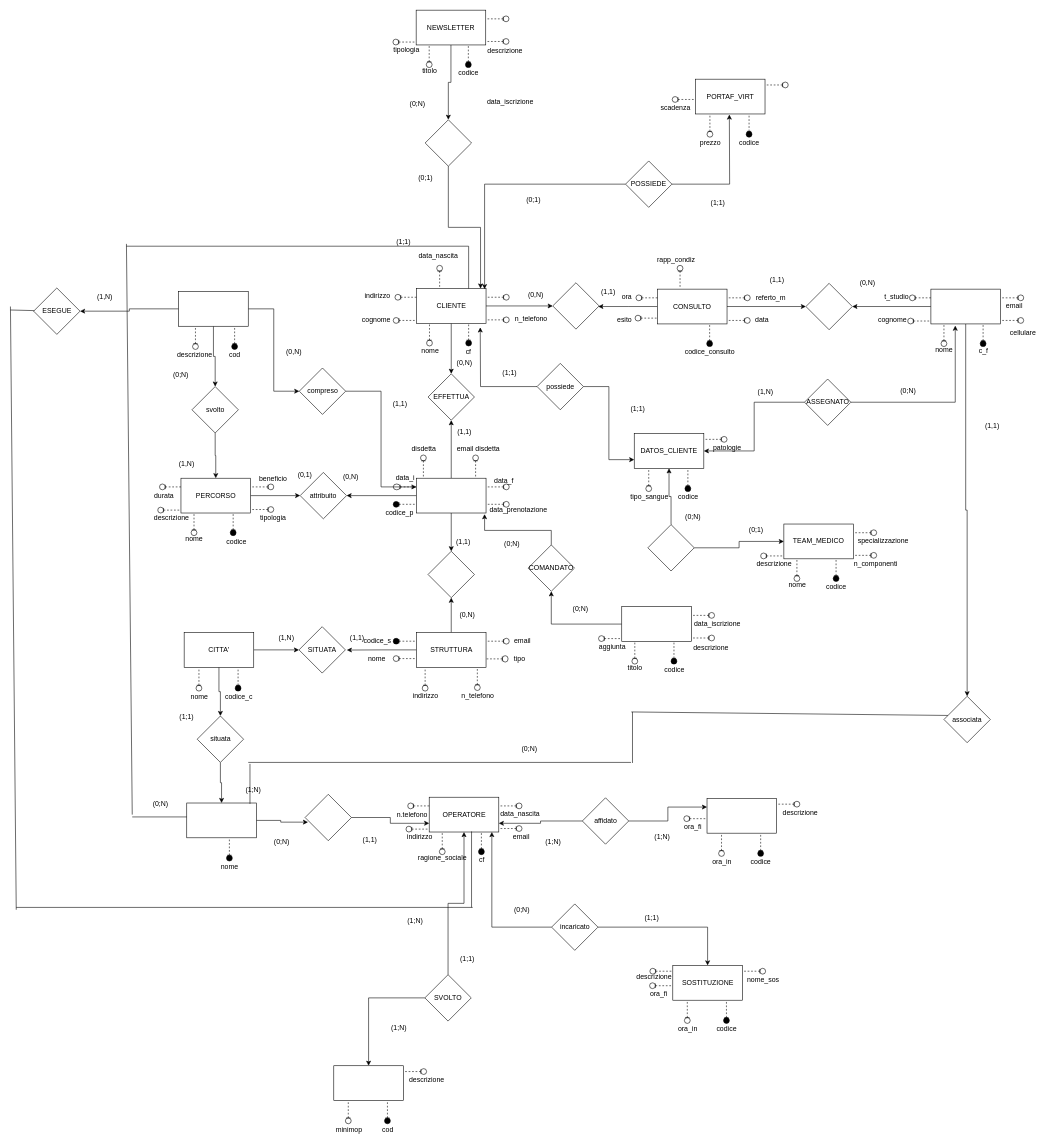
Some shapes in this 1050 by 1146 pixel diagram are drawn without their labels. The shapes that lost their labels are listed below. From the top down, each one's centre as x and y in pixels, then its label:
At point 448,142: "ISCRITTO".
At point 213,308: "TRATTAMENTO".
At point 575,305: "RICHIEDE".
At point 828,306: "COMPIE".
At point 965,306: "MEDICO".
At point 451,495: "PRENOTAZIONE".
At point 670,547: "GESTITO".
At point 450,574: "RIFERIRE".
At point 656,623: "SERVIZIO_EXTRA".
At point 221,820: "NAZIONE".
At point 327,817: "appartenuto".
At point 741,815: "TURNO".
At point 368,1083: "OCCUPAZIONE".
